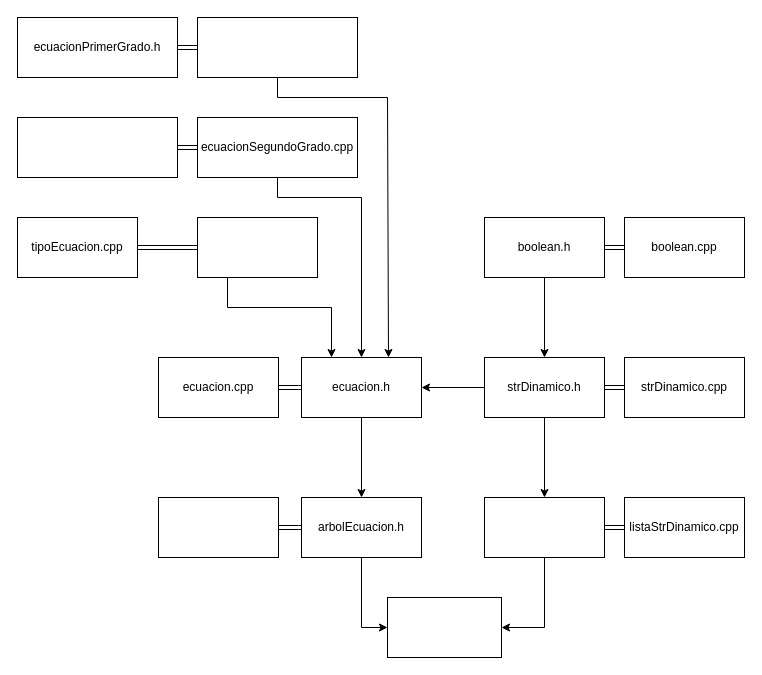
Some shapes in this 762 by 675 pixel diagram are drawn without their labels. The centre of each missing label's shape, as x and y in pixels:
arbolEcuacion.cpp: pixel 218 527
ecuacionPrimerGrado.cpp: pixel 277 47
ecuacionSegundoGrado.h: pixel 97 147
listaStrDinamico.h: pixel 544 527
main.cpp: pixel 444 627
tipoEcuacion.h: pixel 257 247
